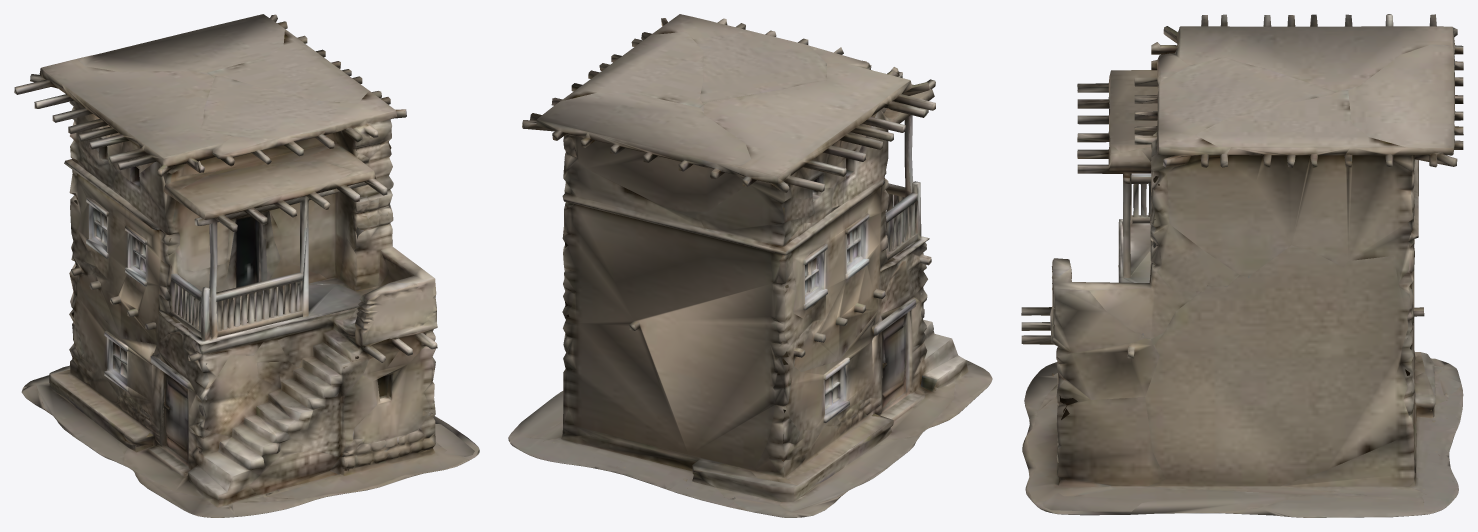
Rendered from house_13.glb.
3 views of the same model, side by side, from view 1: azimuth 30°, elevation 25°; view 2: azimuth 150°, elevation 25°; view 3: azimuth 270°, elevation 25° (orthographic). The views are drawn at different scales.
Visible parts, largest first — view 1: node_0; view 2: node_0; view 3: node_0.
Boxes of the visible parts, <box> form: node_0: <box>14,14,479,517</box>; node_0: <box>508,14,992,517</box>; node_0: <box>1021,14,1463,517</box>.
Bounding box in the file's own units: 0.7002 × 0.6975 × 0.8037.
Materials: 1 (1 with a texture image).
